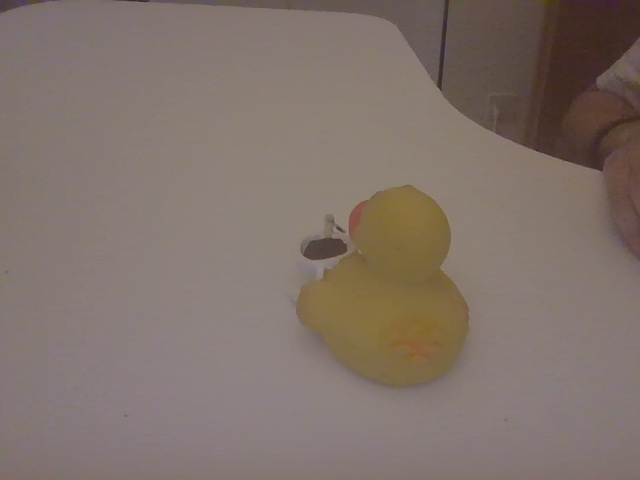duck: (277, 157, 474, 398)
